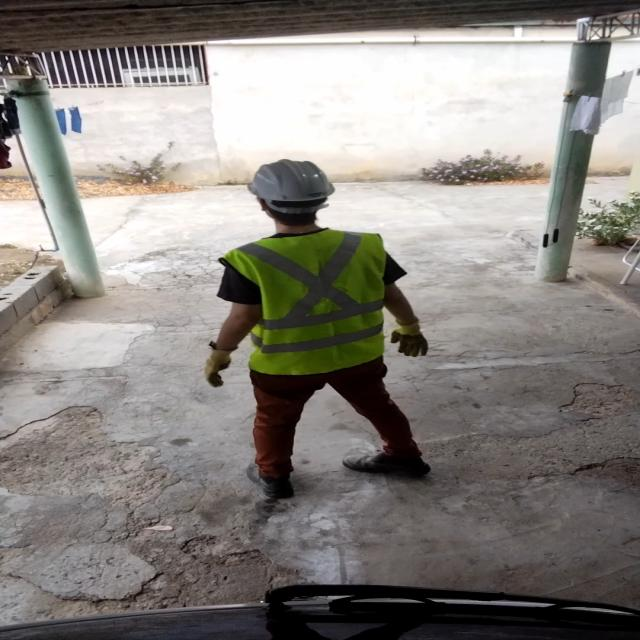glove: (198, 342, 250, 389), (397, 317, 439, 358)
helmet: (236, 158, 342, 216)
pants: (247, 371, 424, 472)
vest: (238, 228, 389, 374)
